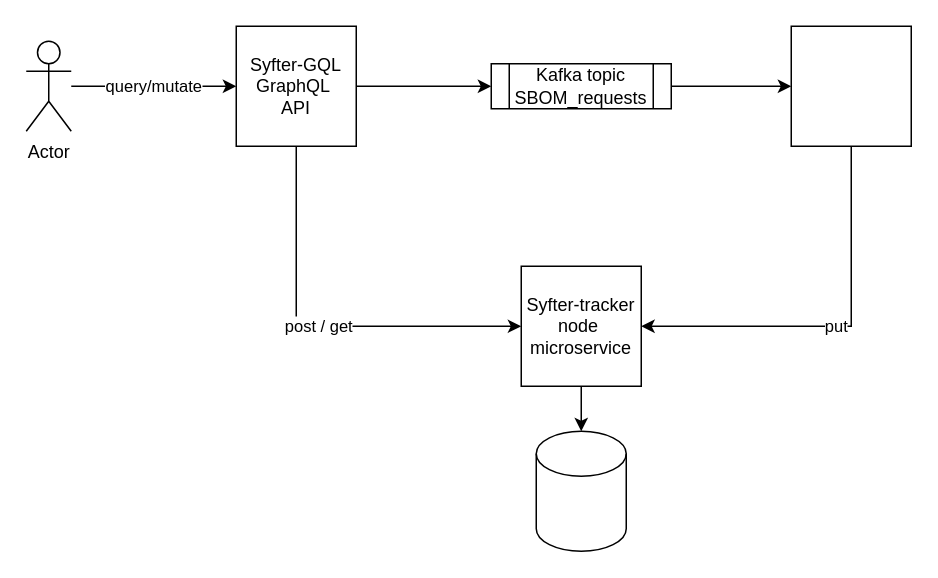
Some shapes in this 938 by 578 pixel diagram are drawn without their labels. Each missing label, with the centre of its shape:
mongodb: the point at 580,490
Syfter-worker node microservice: the point at 850,85
